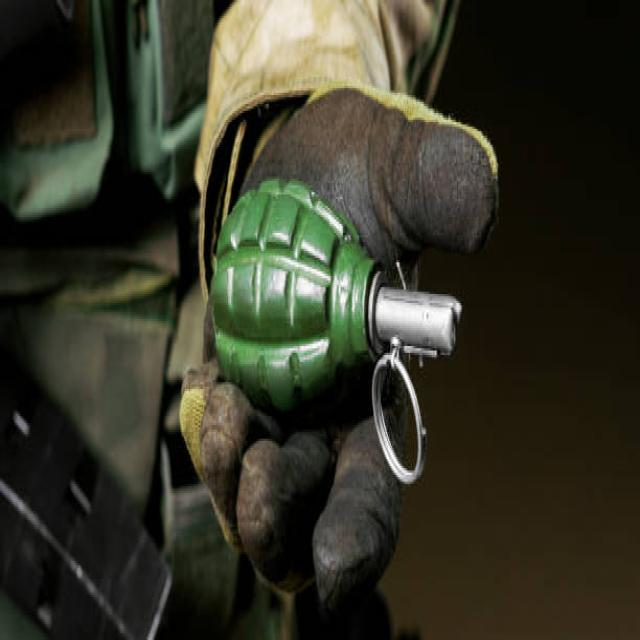grenade: (208, 170, 470, 496)
